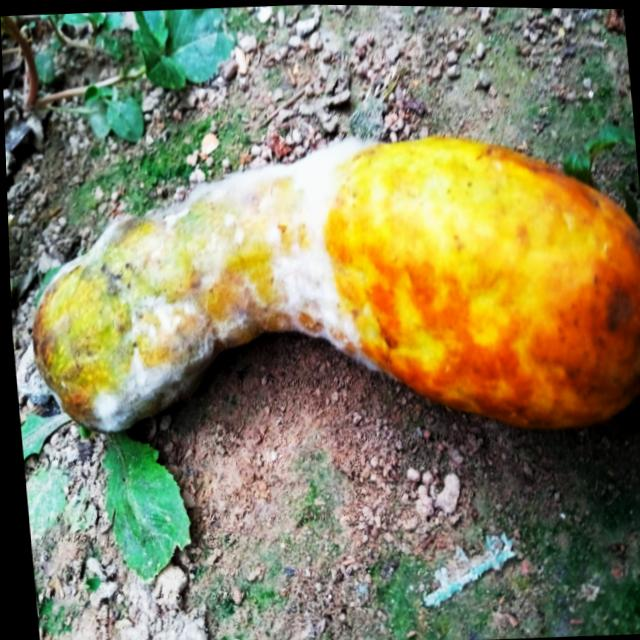Pythium-Fruit-Rot: (14, 122, 406, 440)
